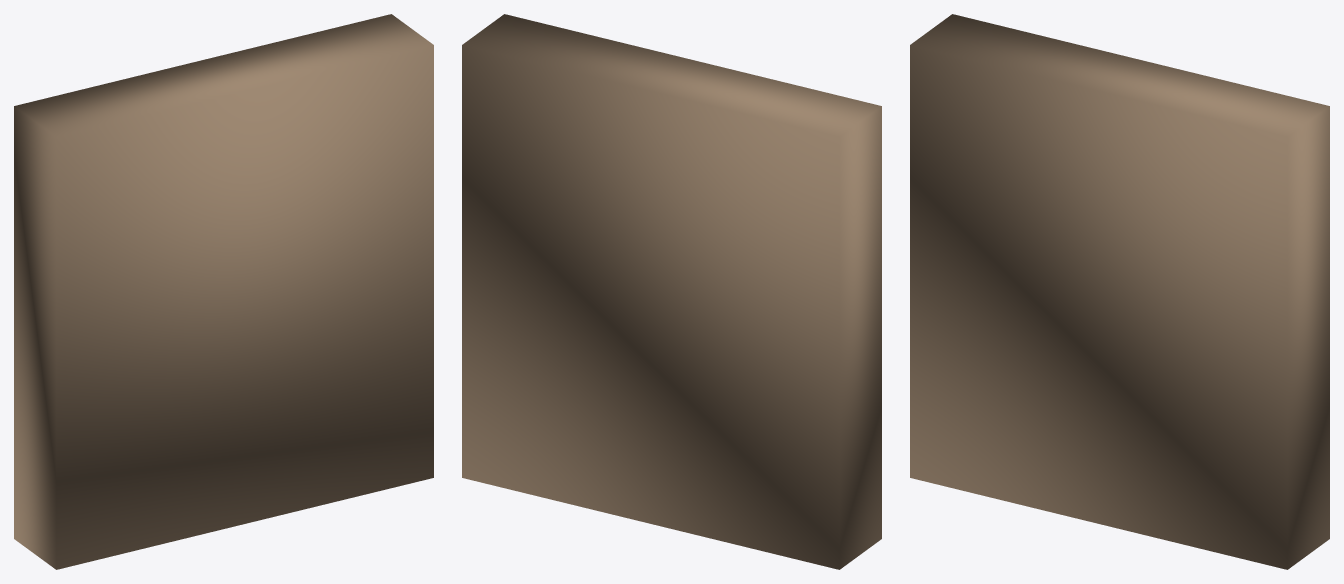
The model's file is back_bar_shelf__tall.glb.
3 views of the same model, side by side, from view 1: azimuth 30°, elevation 25°; view 2: azimuth 150°, elevation 25°; view 3: azimuth 330°, elevation 25° (orthographic).
Visible parts, largest first — view 1: world; view 2: world; view 3: world.
Part boxes in pixels (box(x1,y1,x2,y2)): world: box(14, 14, 433, 569); world: box(462, 14, 881, 569); world: box(910, 14, 1329, 569).
Size of the model in its own units: 1.8 by 1.97 by 0.35.
